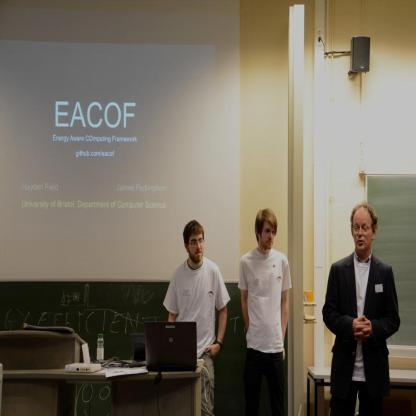board: (138, 317, 204, 391), (98, 333, 106, 368)
